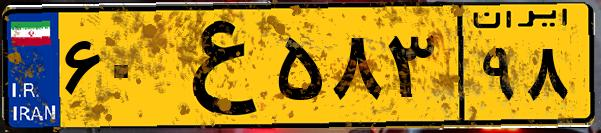0: (110, 28, 158, 98)
3: (385, 28, 445, 110)
5: (270, 28, 330, 110)
6: (57, 26, 110, 100)
8: (330, 28, 385, 110), (525, 38, 570, 115)
9: (475, 38, 525, 113)
ع: (158, 12, 270, 120)
